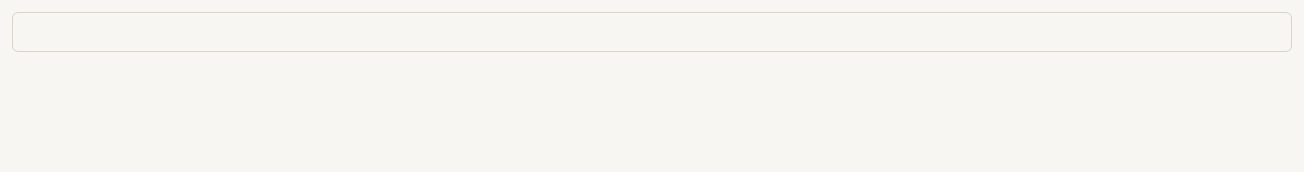
Scenario: regional location selection regressions › reopens suggestions on focus after a touch selection closed them
Step 1. Type "sinaia" into the dropdown → (652,32), box left=12, top=12, right=1292, bottom=52
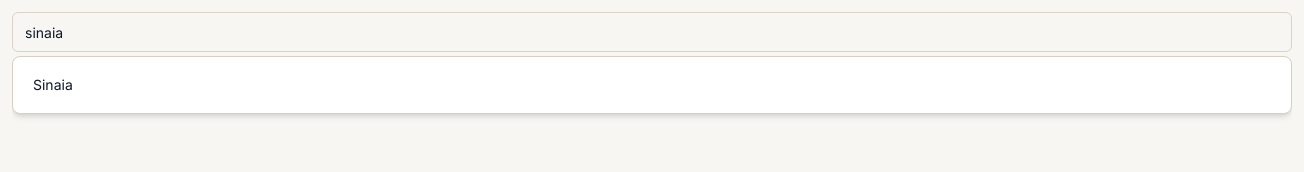
Step 2. Click the option "Sinaia" → (53,84), box left=17, top=61, right=1287, bottom=109
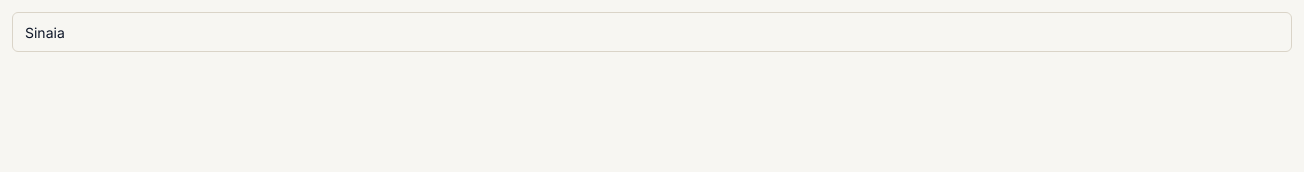
Expected: the list is gone
Step 3. Focus the dropdown → (652,32), box left=12, top=12, right=1292, bottom=52
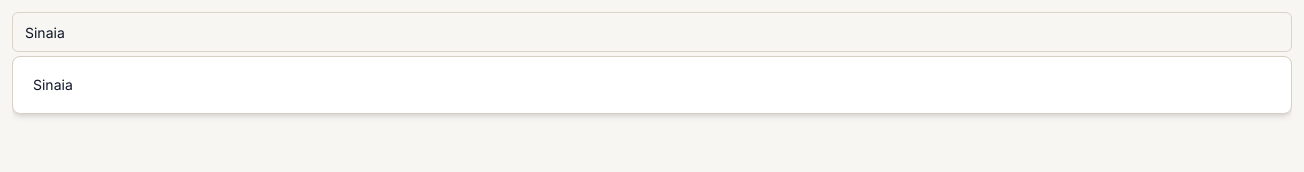
Expected: the list is shown, left=12, top=56, right=1292, bottom=114
